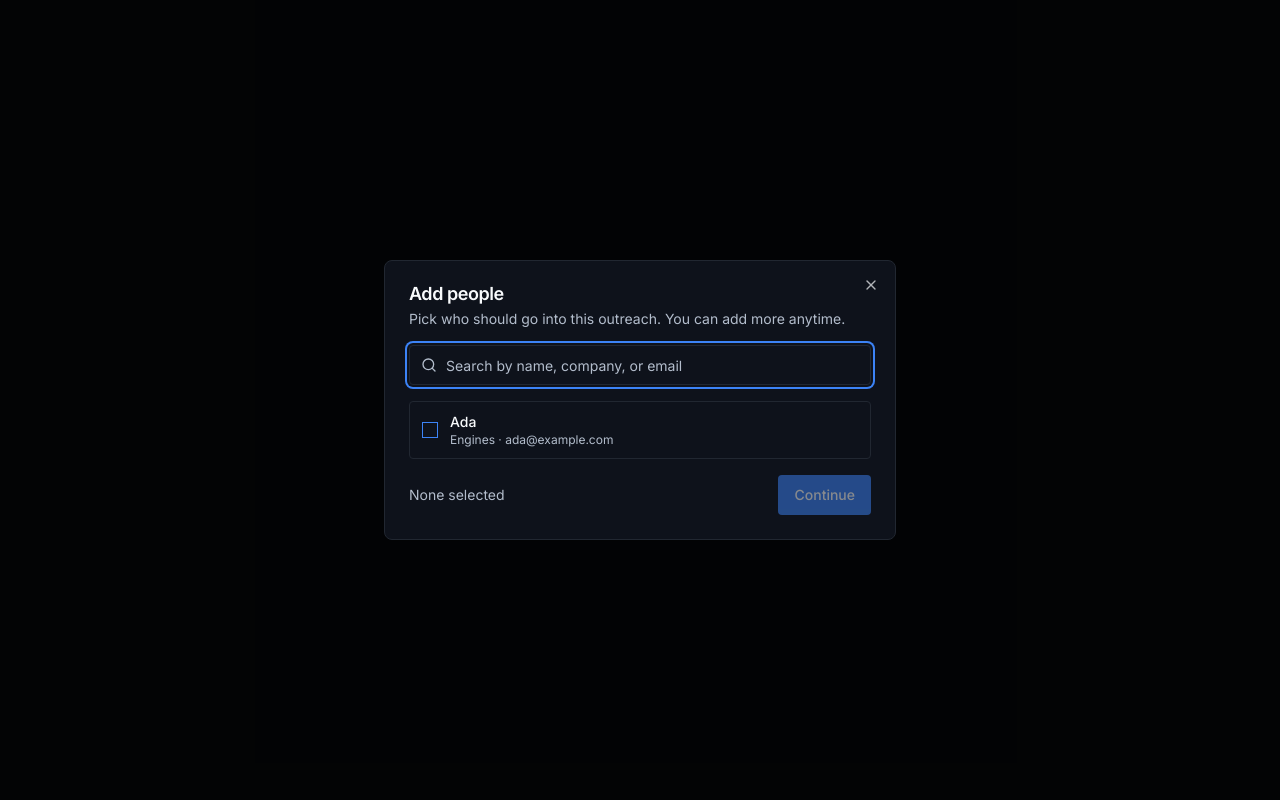
Test case: AddLeadsDialog picker › loads on open, excludes existing people, and preserves selections across server searches
This screenshot has width=1280, height=800.
Later steps or results of the test are not shown.
expect the text "Ada" is shown: met, box [450,413,476,430]
Click the checkbox at (430, 430), box [422,422,438,438]
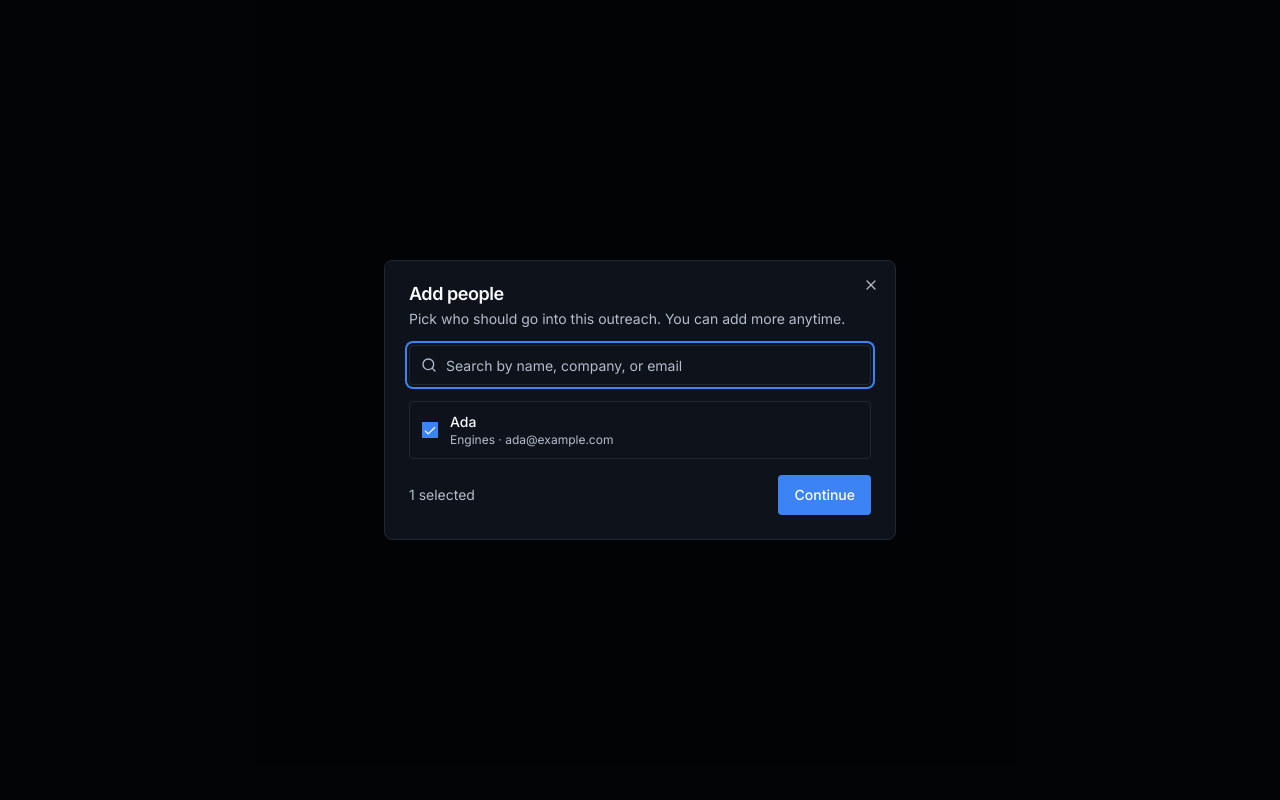
Type "Older" into the field with placeholder "Search by name, company, or email" at (640, 365), box [409,345,871,385]
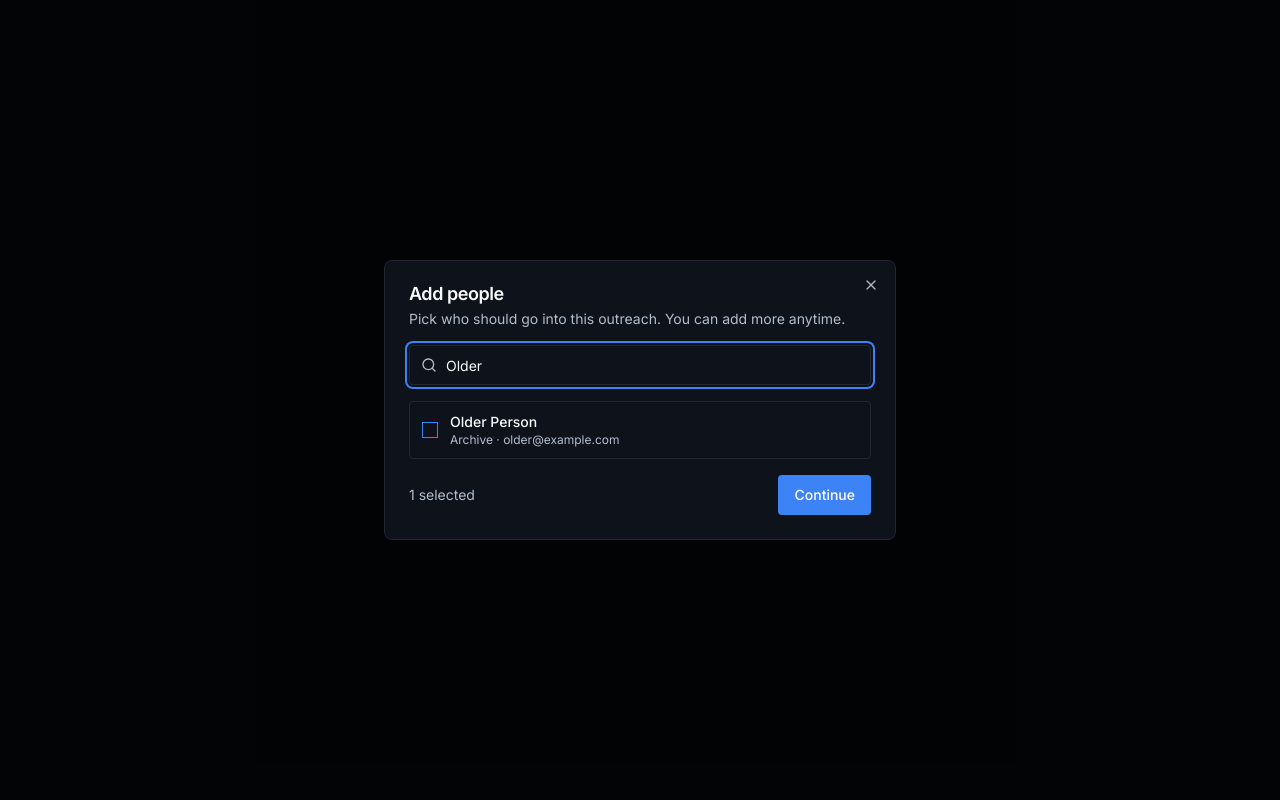
expect the text "1 selected" is shown: met, box [409,485,475,505]
expect the text "Older Person" is shown: met, box [450,413,537,430]
Click the checkbox at (430, 430), box [422,422,438,438]
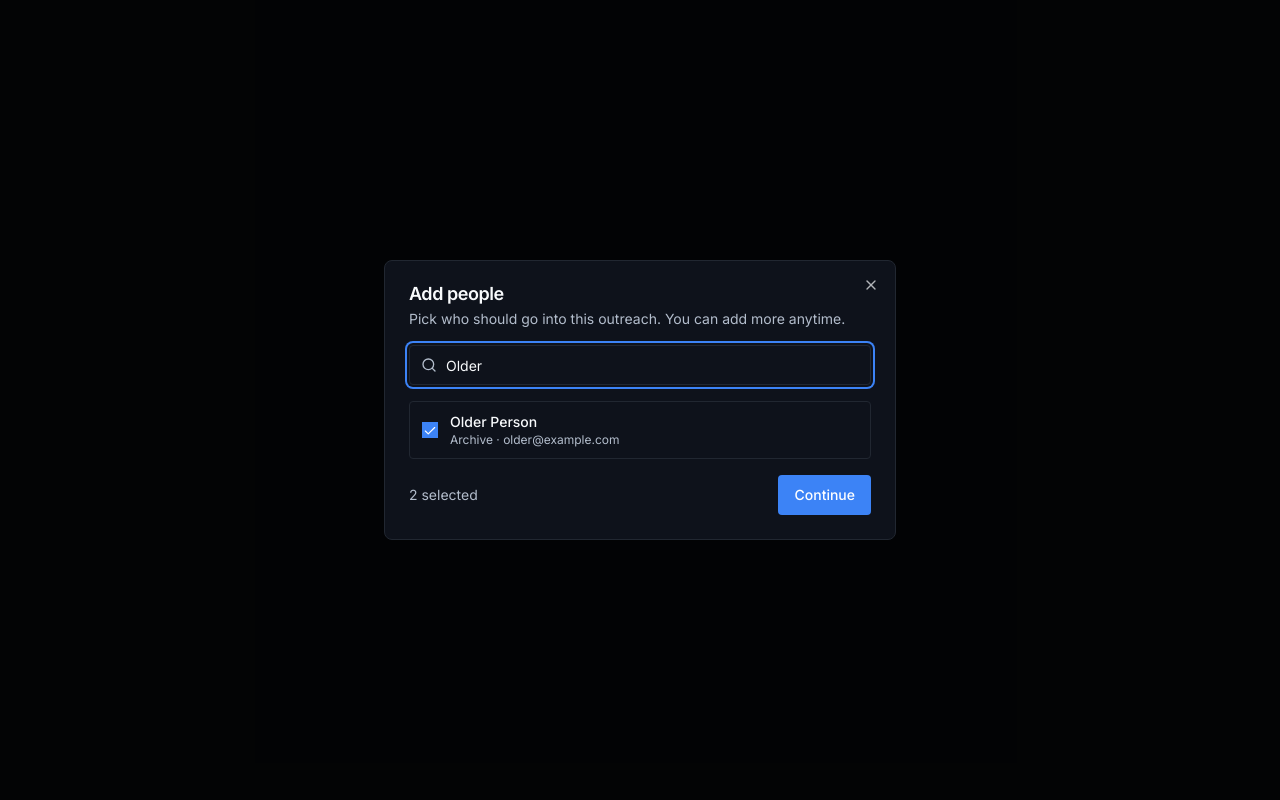
expect the text "2 selected" is shown: met, box [409,485,478,505]
Clear the field with placeholder "Search by name, company, or email" at (640, 365), box [409,345,871,385]
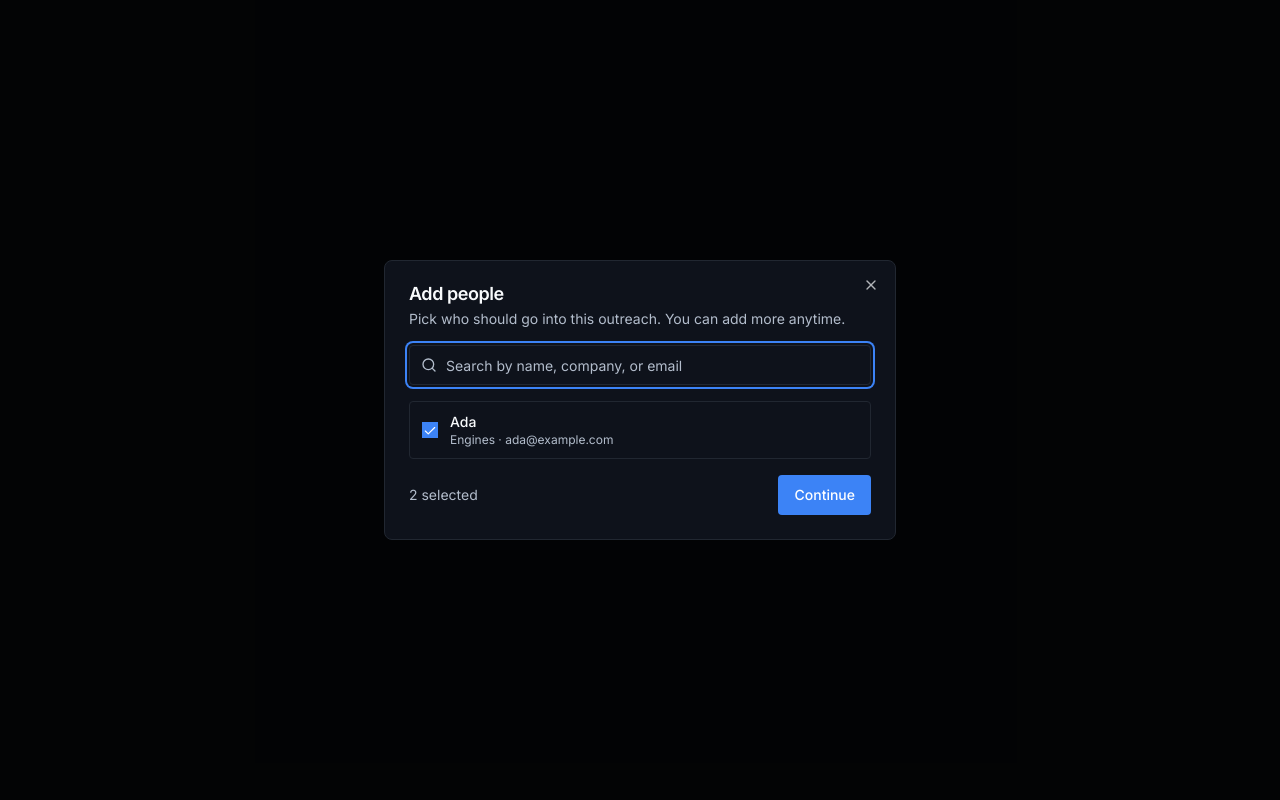
expect the checkbox is checked: met, box [422,422,438,438]
expect the text "2 selected" is shown: met, box [409,485,478,505]
expect the text "Ada" is shown: met, box [450,413,476,430]
